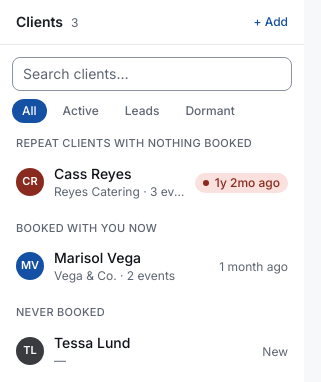
Test: ClientQueueRail › filters the list by the search box
The image size is (321, 382).
Expected: the text "Marisol Vega" is shown, [54, 249, 141, 266]
Type "tessa" into the search field with placeholder "Search clients…" at [152, 74], box [12, 57, 292, 91]
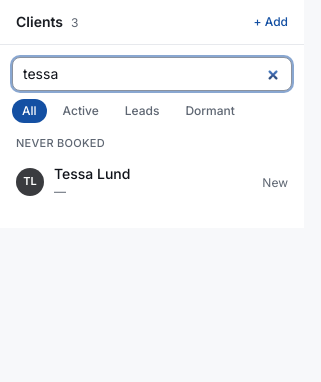
Expected: the text "Tessa Lund" is shown, [54, 164, 130, 182]
Now the link "Marisol Vega" is gone
